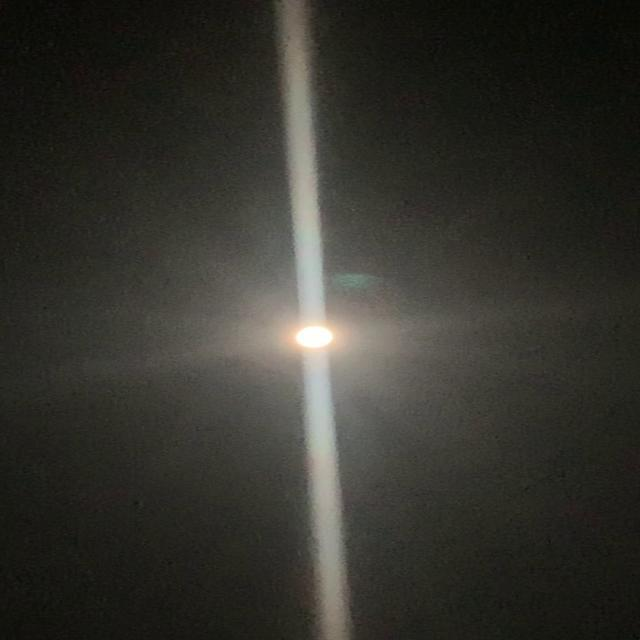moon: (278, 318, 350, 356)
